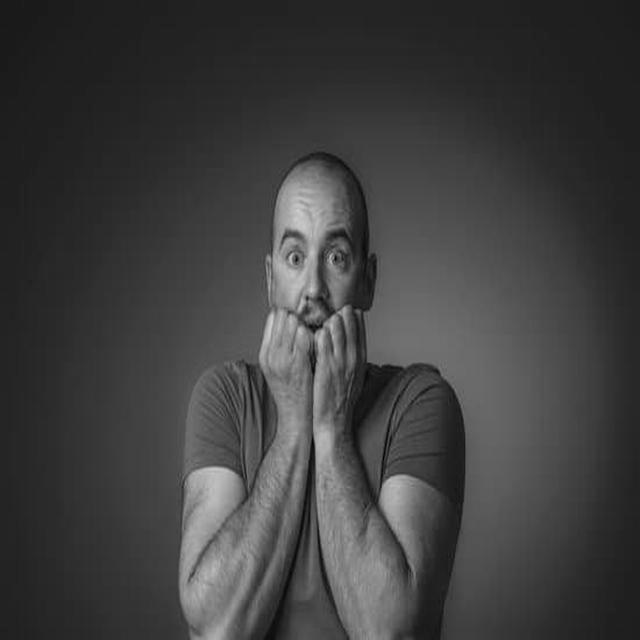Fear: (279, 176, 358, 337)
